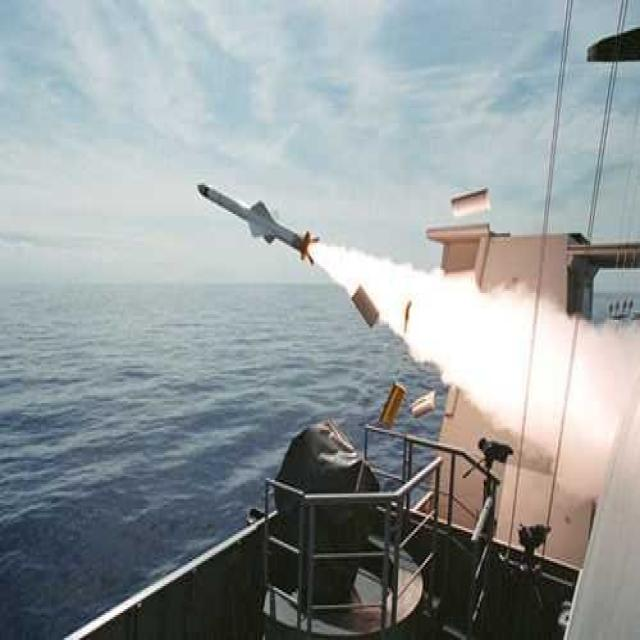missile: (196, 180, 316, 269)
